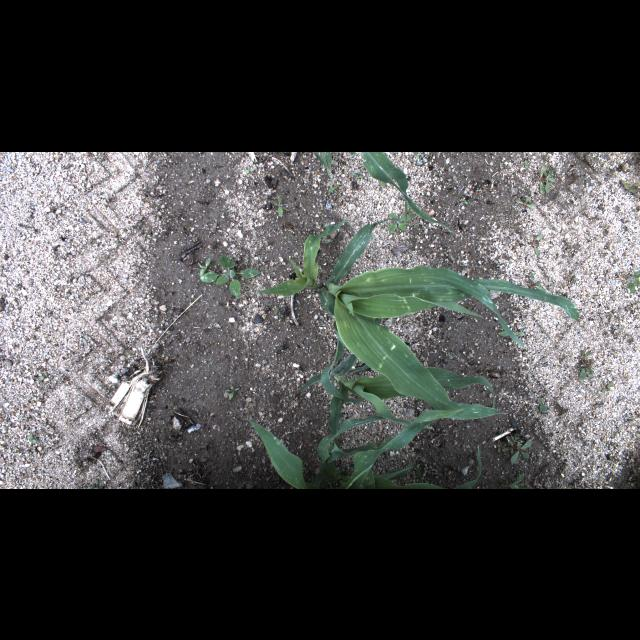crop: (252, 216, 578, 420), (293, 328, 495, 432), (248, 408, 464, 488), (360, 151, 454, 233), (458, 444, 482, 488)
weed: (196, 252, 262, 300), (504, 436, 536, 464), (534, 162, 558, 194), (386, 211, 412, 233), (526, 270, 548, 294), (270, 194, 290, 220), (500, 468, 526, 488), (310, 152, 336, 170), (573, 365, 597, 381), (514, 193, 536, 210), (624, 268, 638, 294), (531, 232, 543, 258), (226, 384, 242, 402), (621, 178, 637, 196), (411, 152, 429, 166), (490, 328, 508, 340), (537, 396, 547, 416), (601, 378, 613, 394), (496, 439, 509, 453), (577, 350, 595, 360), (514, 328, 532, 338), (324, 182, 338, 194), (618, 158, 630, 172), (564, 273, 580, 283), (242, 164, 256, 174), (27, 430, 37, 444), (85, 476, 99, 486), (460, 193, 472, 204), (110, 230, 120, 243), (521, 157, 533, 167), (594, 472, 606, 482), (566, 247, 578, 256), (353, 168, 363, 178), (94, 154, 106, 162), (37, 372, 45, 383), (272, 307, 282, 313), (446, 354, 456, 360), (349, 151, 359, 157), (464, 348, 478, 352)
